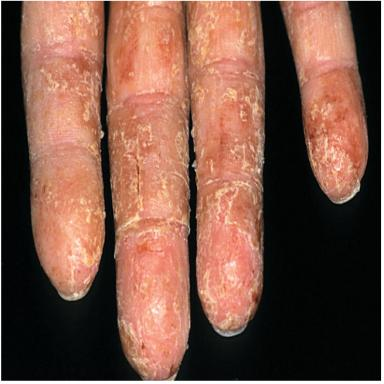eczema: (107, 2, 265, 379), (21, 2, 104, 300), (281, 2, 367, 203)
